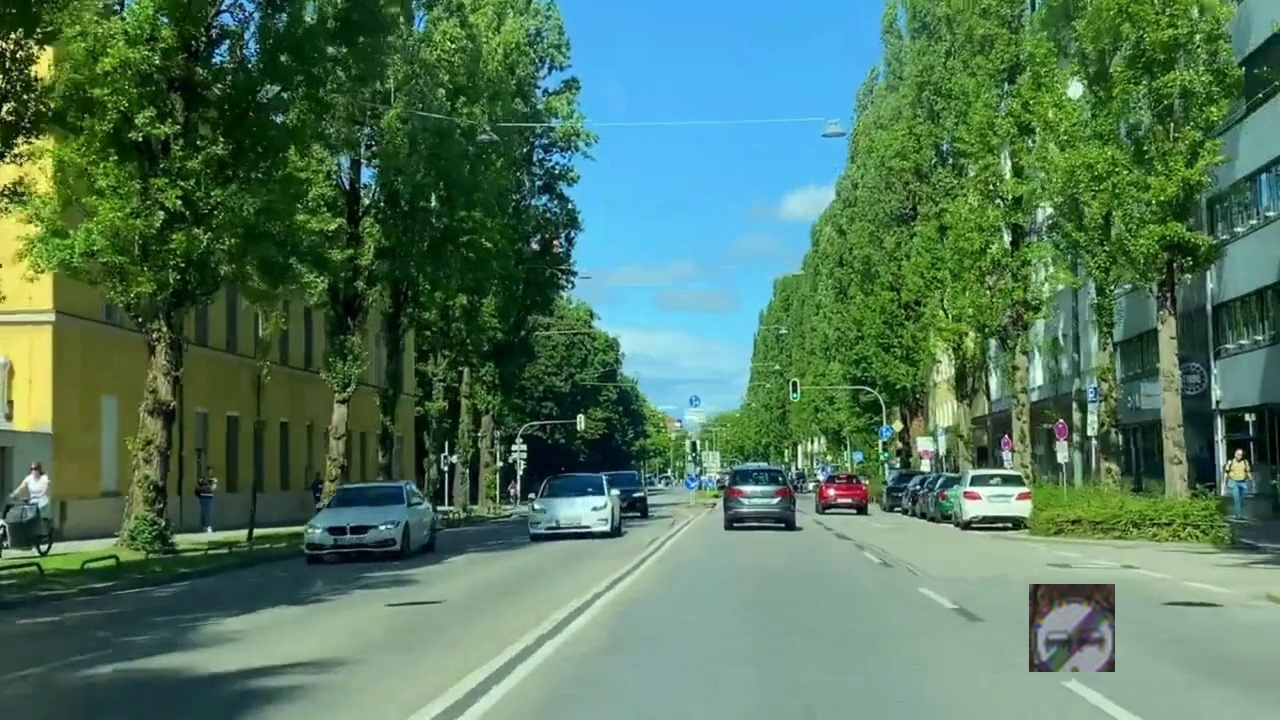End no pass: (1029, 584, 1115, 672)
